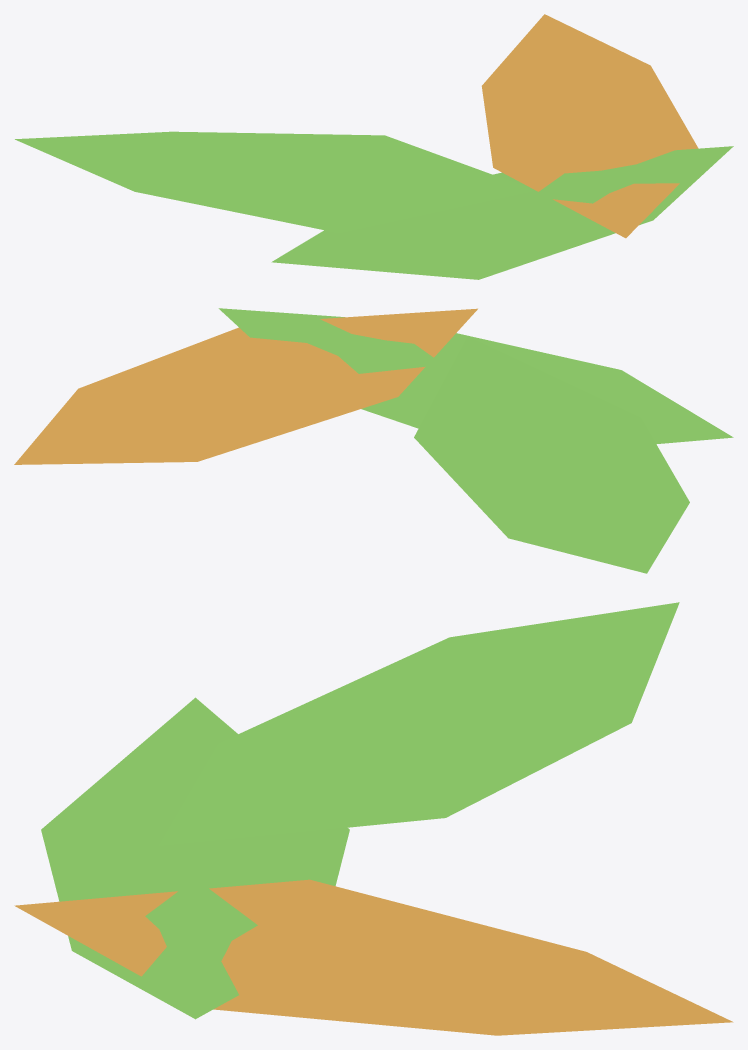
Rendered from Basura_Organico_Hojas.fbx.
3 renders of one model, top to bottom at view 1: azimuth 30°, elevation 25°; view 2: azimuth 150°, elevation 25°; view 3: azimuth 270°, elevation 25°, orthographic. The views are drawn at different scales.
Parts seen in each view (by area): view 1: Basura_Organico_Hojas; view 2: Basura_Organico_Hojas; view 3: Basura_Organico_Hojas.
Part boxes in pixels (x1,y1,x2,y2): Basura_Organico_Hojas: [15, 14, 733, 279]; Basura_Organico_Hojas: [14, 308, 733, 573]; Basura_Organico_Hojas: [14, 602, 733, 1035].
Bounding box in the file's own units: 0.9293 × 0.0595 × 0.699.
1 material, 1 textured.
